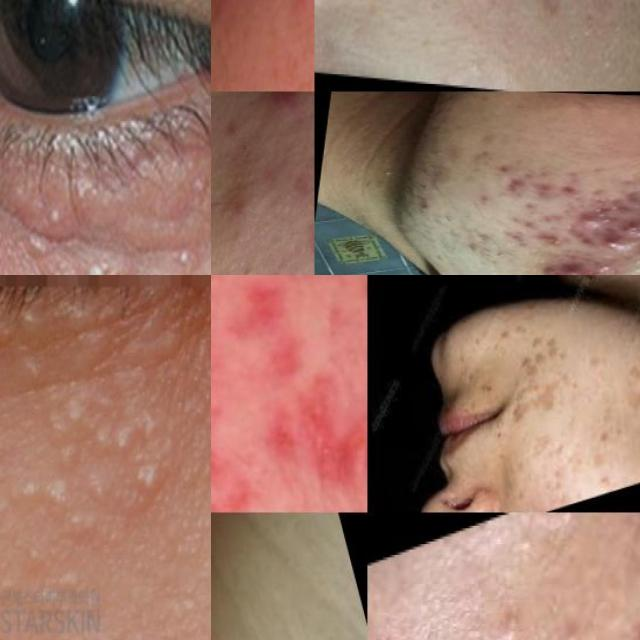acne_scars: (281, 361, 368, 492), (211, 275, 295, 349), (238, 399, 302, 465), (526, 0, 572, 25), (344, 275, 367, 313), (490, 173, 527, 193)
comedone: (490, 602, 535, 640), (454, 42, 494, 82), (549, 615, 593, 640)
crystanlline: (0, 458, 51, 555)
flat_wart: (489, 328, 573, 385)
milium: (42, 379, 174, 522), (17, 215, 73, 252), (80, 259, 159, 275)
papule: (557, 211, 609, 227), (597, 237, 634, 255), (557, 256, 586, 275), (628, 219, 640, 237)
syringoma: (53, 308, 211, 384), (54, 166, 146, 222), (175, 150, 211, 225)
